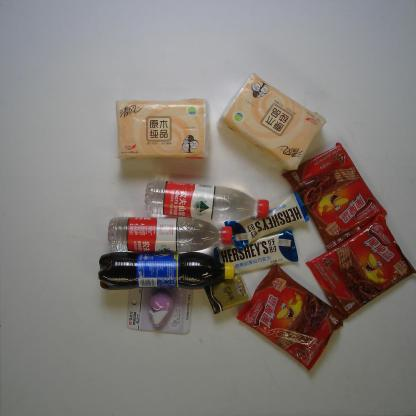Chocolate: (225, 190, 309, 249), (210, 228, 301, 274)
Dessert: (279, 142, 392, 250), (304, 214, 415, 321), (238, 264, 344, 374)
Drink: (98, 251, 235, 291), (143, 179, 269, 222), (106, 216, 234, 253)
Stationery: (124, 283, 194, 335)
Tissue: (219, 72, 326, 172), (115, 98, 209, 160), (202, 274, 252, 314)
